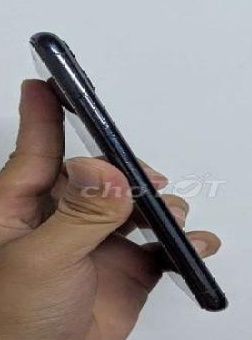scratch: (93, 127, 160, 193)
